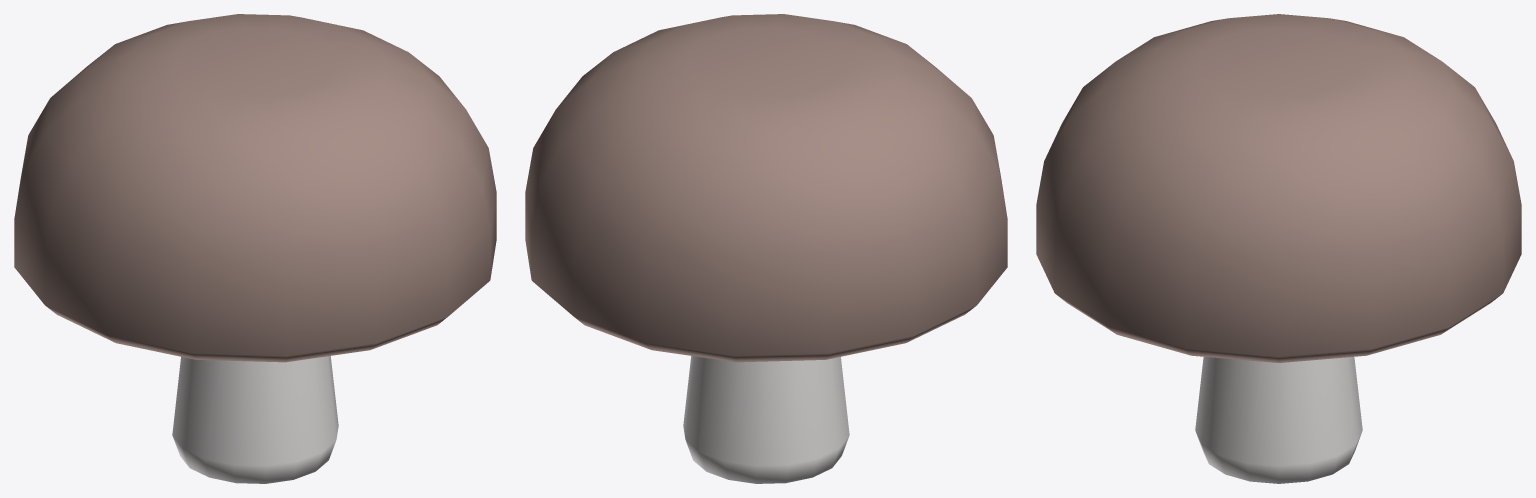
Rendered from Champignon_Mushroom.fbx.
3 views of the same model, side by side, from view 1: azimuth 30°, elevation 25°; view 2: azimuth 150°, elevation 25°; view 3: azimuth 270°, elevation 25° (orthographic).
Visible parts, largest first — view 1: Champignon_Mushroom; view 2: Champignon_Mushroom; view 3: Champignon_Mushroom.
Boxes of the visible parts, left/top/right/bottom form: Champignon_Mushroom: left=14, top=14, right=496, bottom=483; Champignon_Mushroom: left=525, top=14, right=1007, bottom=483; Champignon_Mushroom: left=1036, top=14, right=1521, bottom=483.
Size of the model in its own units: 11.59 by 10.5 by 11.59.
